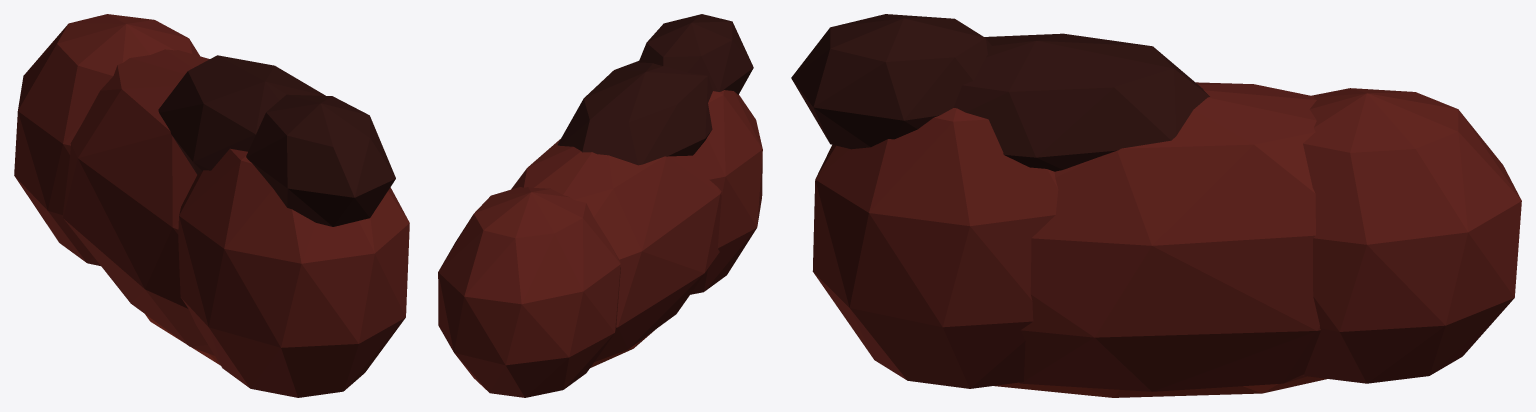
File: wolf_3_body.glb
The picture shows the model from 3 angles, left to right: view 1: azimuth 30°, elevation 25°; view 2: azimuth 150°, elevation 25°; view 3: azimuth 270°, elevation 25°; orthographic projection. The views are drawn at different scales.
Visible parts, largest first — view 1: wolf_3_body; view 2: wolf_3_body; view 3: wolf_3_body.
Part boxes in pixels (<box>): wolf_3_body: <box>14,14,409,397</box>; wolf_3_body: <box>438,14,762,397</box>; wolf_3_body: <box>791,14,1521,397</box>.
Size of the model in its own units: 0.3209 by 0.5 by 0.8838.
